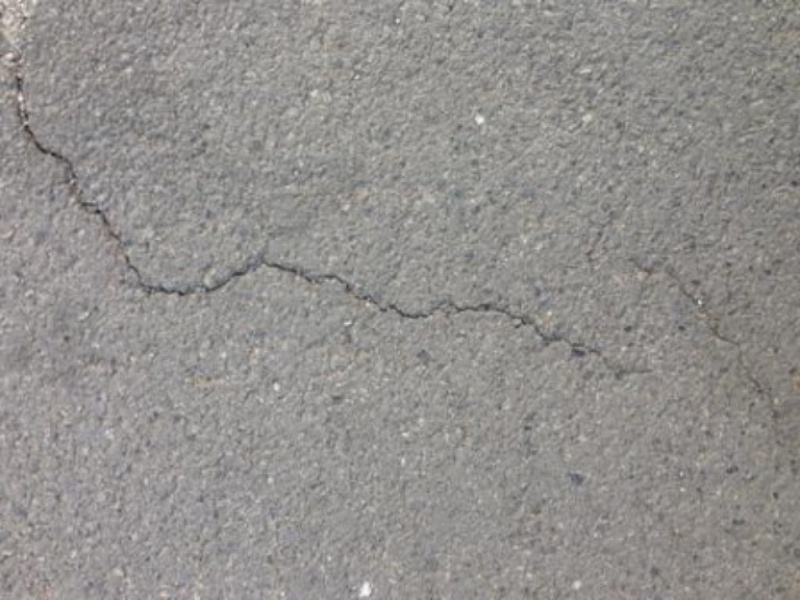crack: (6, 71, 676, 412)
